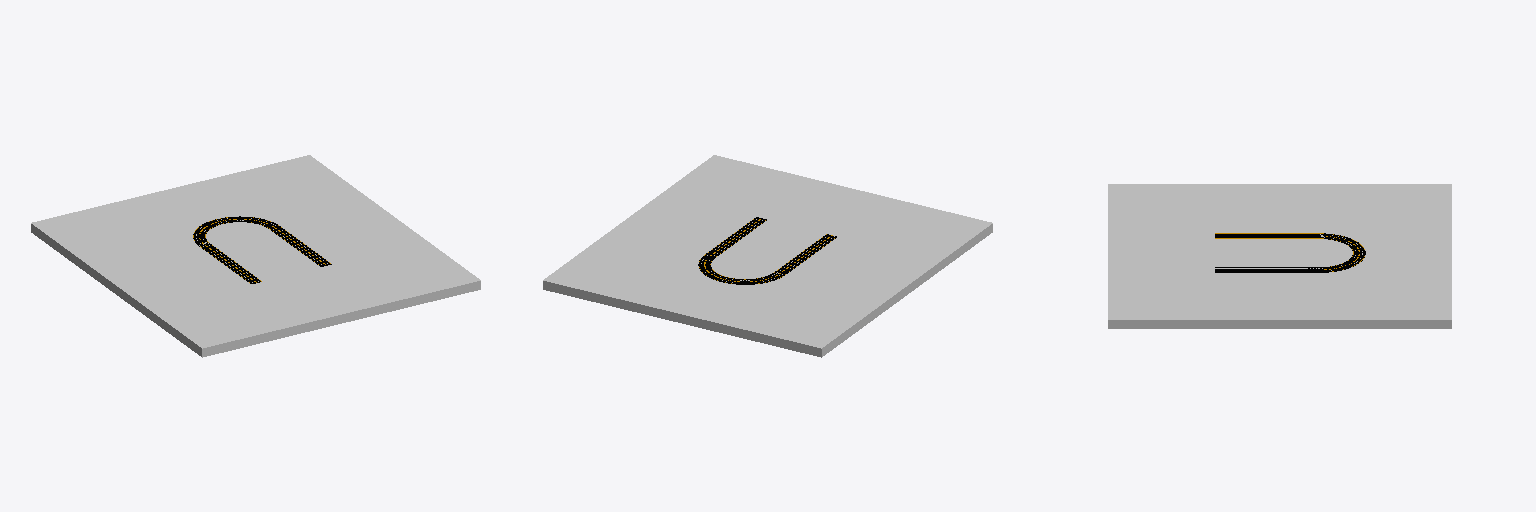
Rendered from Carretera.obj.
3 renders of one model, left to right at view 1: azimuth 30°, elevation 25°; view 2: azimuth 150°, elevation 25°; view 3: azimuth 270°, elevation 25°, orthographic.
Parts seen in each view (by area): view 1: Cube.001, road_with_zebra_crossing, Two_way_road.001, Two_way_road; view 2: Cube.001, road_with_zebra_crossing, Two_way_road.001, Two_way_road; view 3: Cube.001, road_with_zebra_crossing, Two_way_road, Two_way_road.001.
Part boxes in pixels (x1,y1,x2,y2): Cube.001: (31, 155, 480, 357); road_with_zebra_crossing: (193, 216, 278, 245); Two_way_road.001: (270, 226, 331, 266); Two_way_road: (199, 244, 261, 283); Cube.001: (543, 155, 992, 357); road_with_zebra_crossing: (698, 255, 784, 284); Two_way_road.001: (705, 217, 766, 257); Two_way_road: (775, 234, 836, 274); Cube.001: (1108, 184, 1451, 328); road_with_zebra_crossing: (1319, 233, 1365, 272); Two_way_road: (1215, 233, 1318, 238); Two_way_road.001: (1215, 267, 1318, 272).
Size of the model in its own units: 50.8 by 1.67 by 54.1.